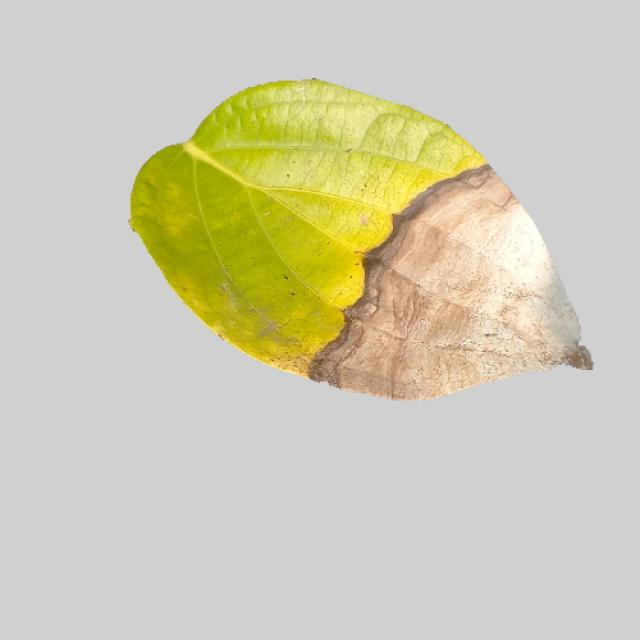leaf-blight: (105, 82, 595, 412)
